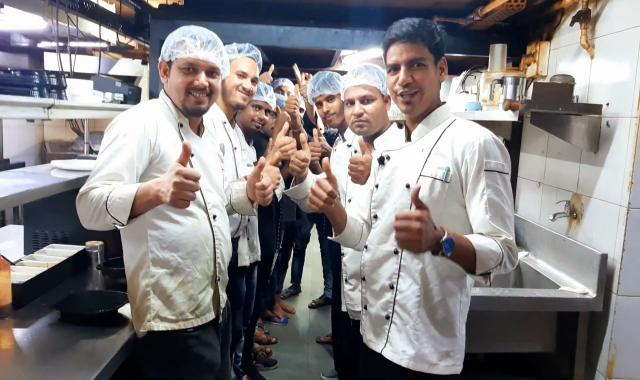hairnet: (157, 22, 225, 79), (340, 63, 389, 105), (228, 40, 262, 75), (244, 80, 278, 110), (308, 71, 340, 102)
no_hairnet: (378, 16, 448, 76)
